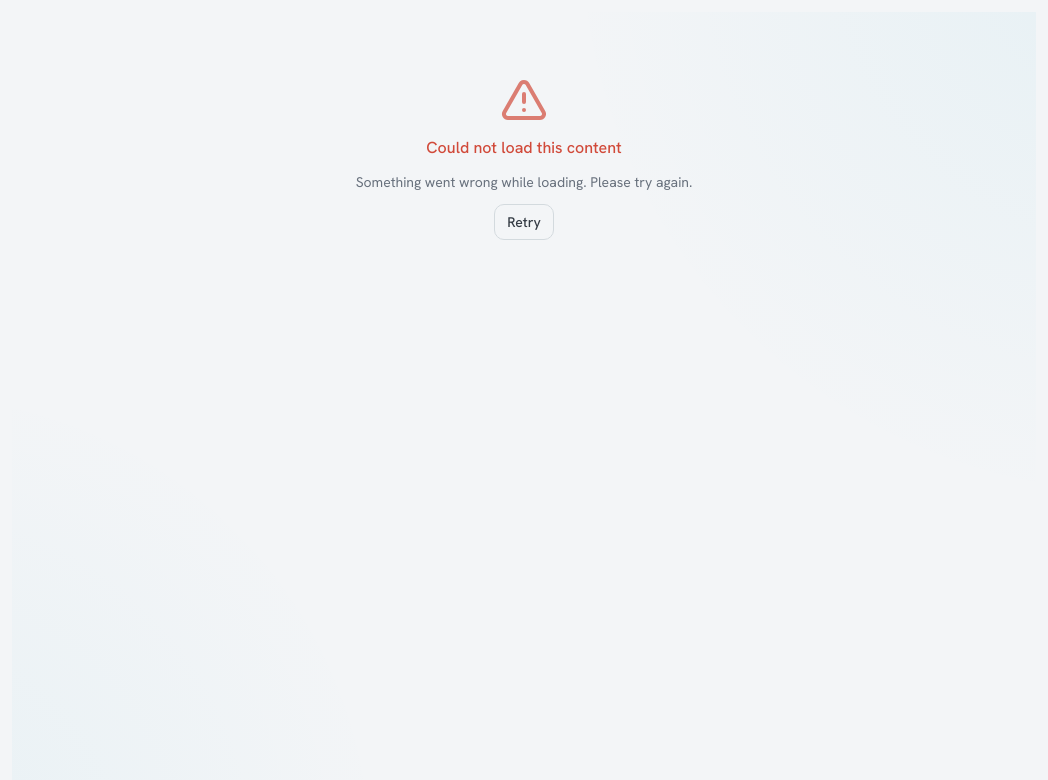
ClientDashboard load-failure honesty (H4) › retry refetches and renders the real KPIs once the server recovers
Click the button "Retry" at (524, 222), box left=494, top=204, right=554, bottom=240
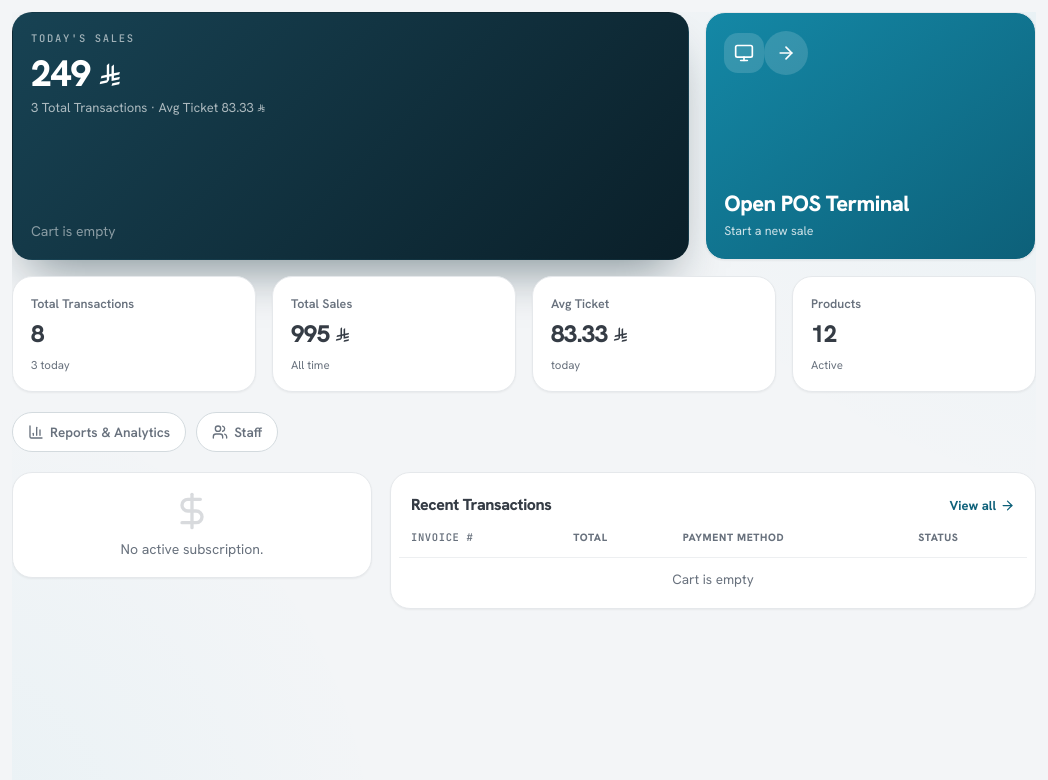
Now the text "Today's Sales" is shown, box left=31, top=31, right=135, bottom=45
Now the message is gone
